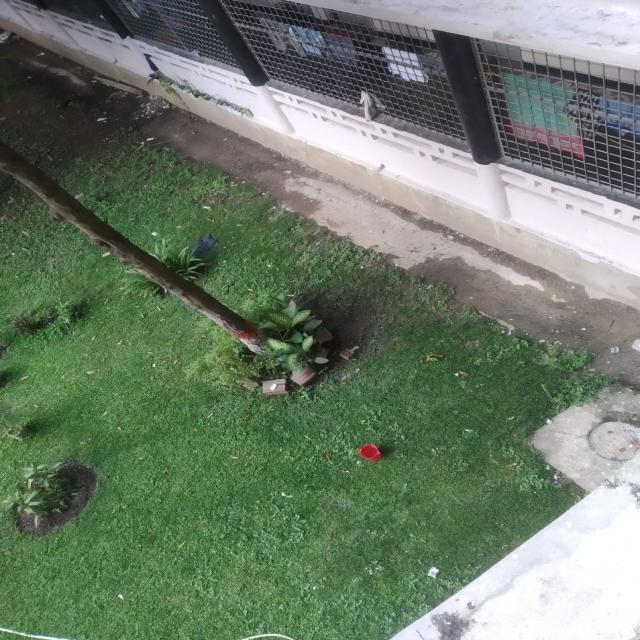Breeding Place: (0, 29, 188, 132), (352, 441, 386, 467)
